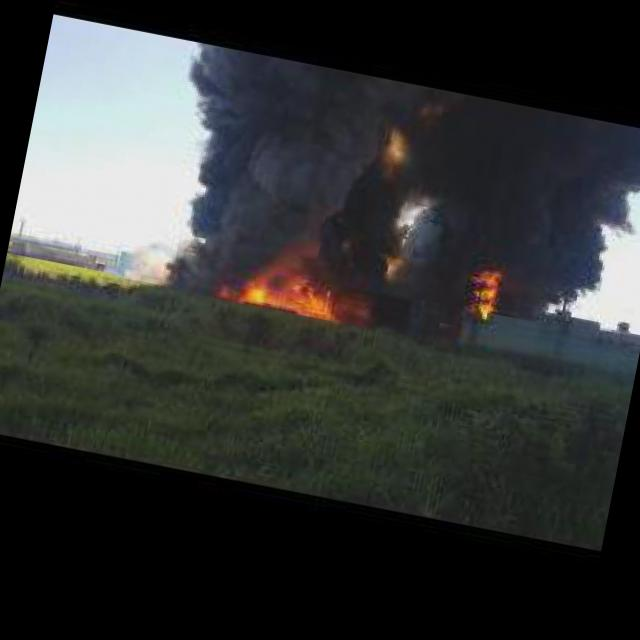fire: (215, 250, 353, 326), (464, 260, 514, 325)
smoke: (144, 40, 640, 341)
